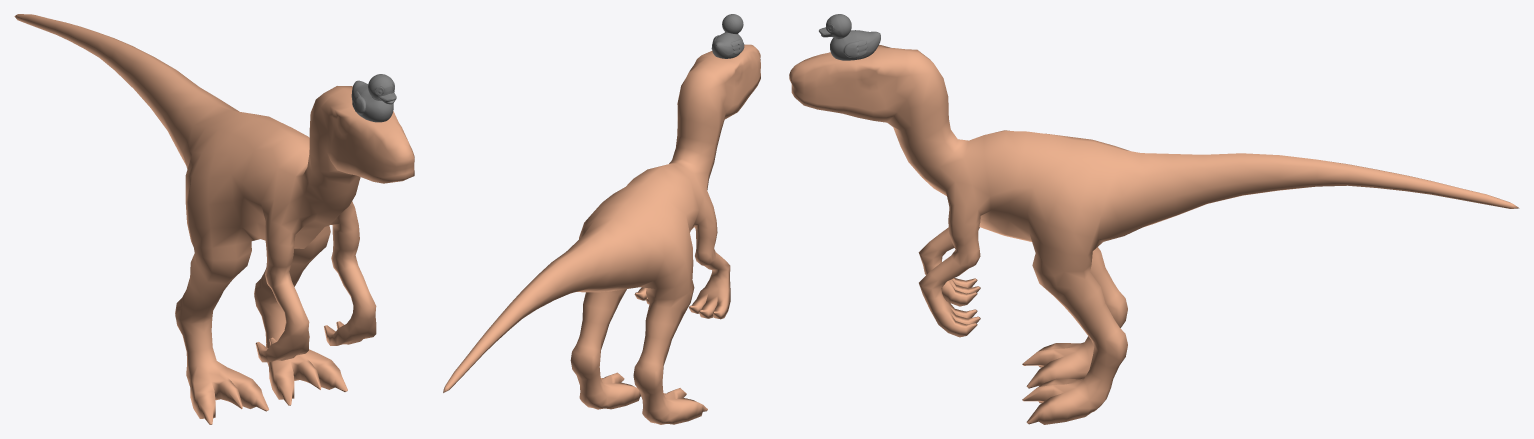
Rendered from RaptorDuck.obj.
The picture shows the model from 3 angles, left to right: view 1: azimuth 30°, elevation 25°; view 2: azimuth 150°, elevation 25°; view 3: azimuth 270°, elevation 25°; orthographic projection. The views are drawn at different scales.
Parts seen in each view (by area): view 1: _Rubber_duck1; view 2: _Rubber_duck1; view 3: _Rubber_duck1.
Part boxes in pixels (bbox=[...]): _Rubber_duck1: bbox=[14, 14, 414, 424]; _Rubber_duck1: bbox=[443, 14, 760, 424]; _Rubber_duck1: bbox=[789, 14, 1519, 424].
Size of the model in its own units: 4.39 by 12.21 by 21.34.
